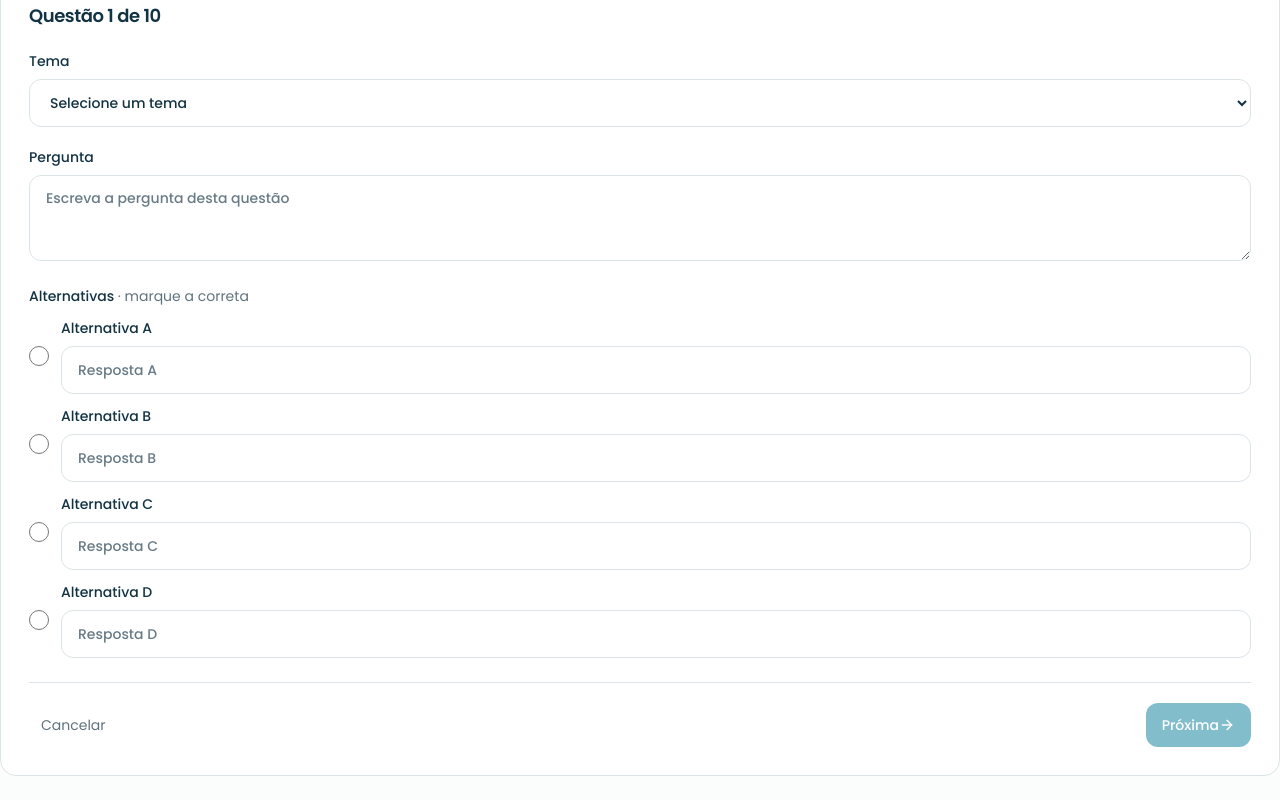
Test: cancelamento vazio sai direto; conteúdo preenchido exige confirmação e preserva edição
Later steps or results of the test are not shown.
(page scrolled)
Click the button "Cancelar" at (73, 725), box [29,703,118,747]
Type "Pergunta em edição" into the text box labelled "Pergunta" at (640, 218), box [29,175,1251,261]
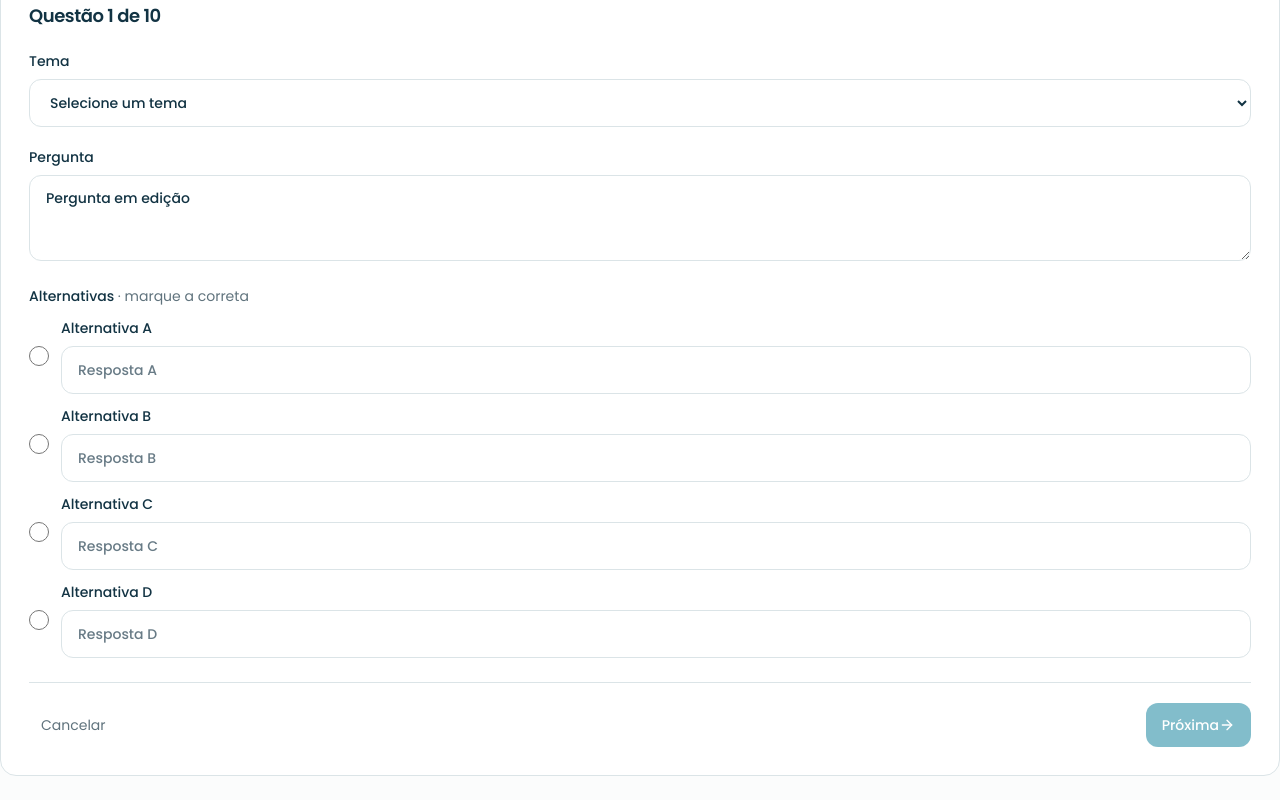
Click the button "Cancelar" at (73, 725), box [29,703,118,747]
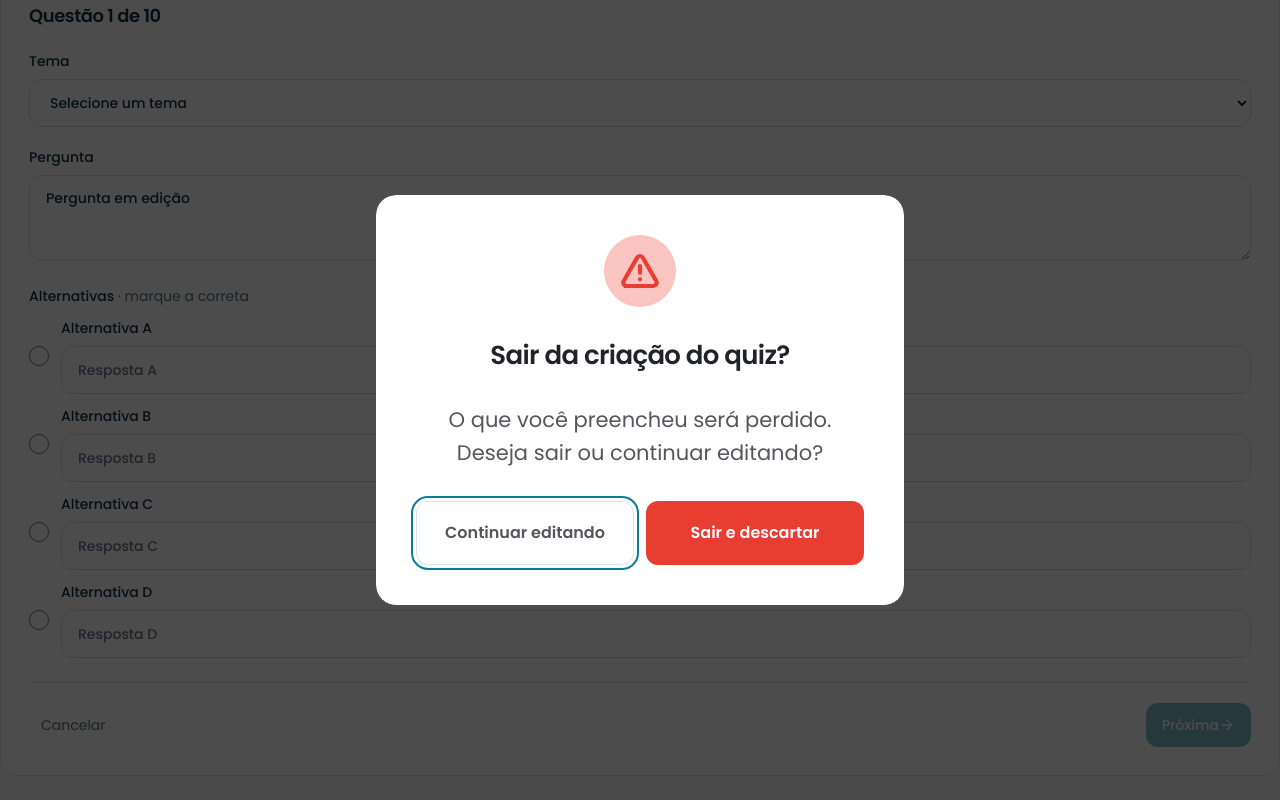
Now the dialog is shown, box [376,194,904,605]
Click the button "Continuar editando" at (525, 533), box [416,501,634,565]
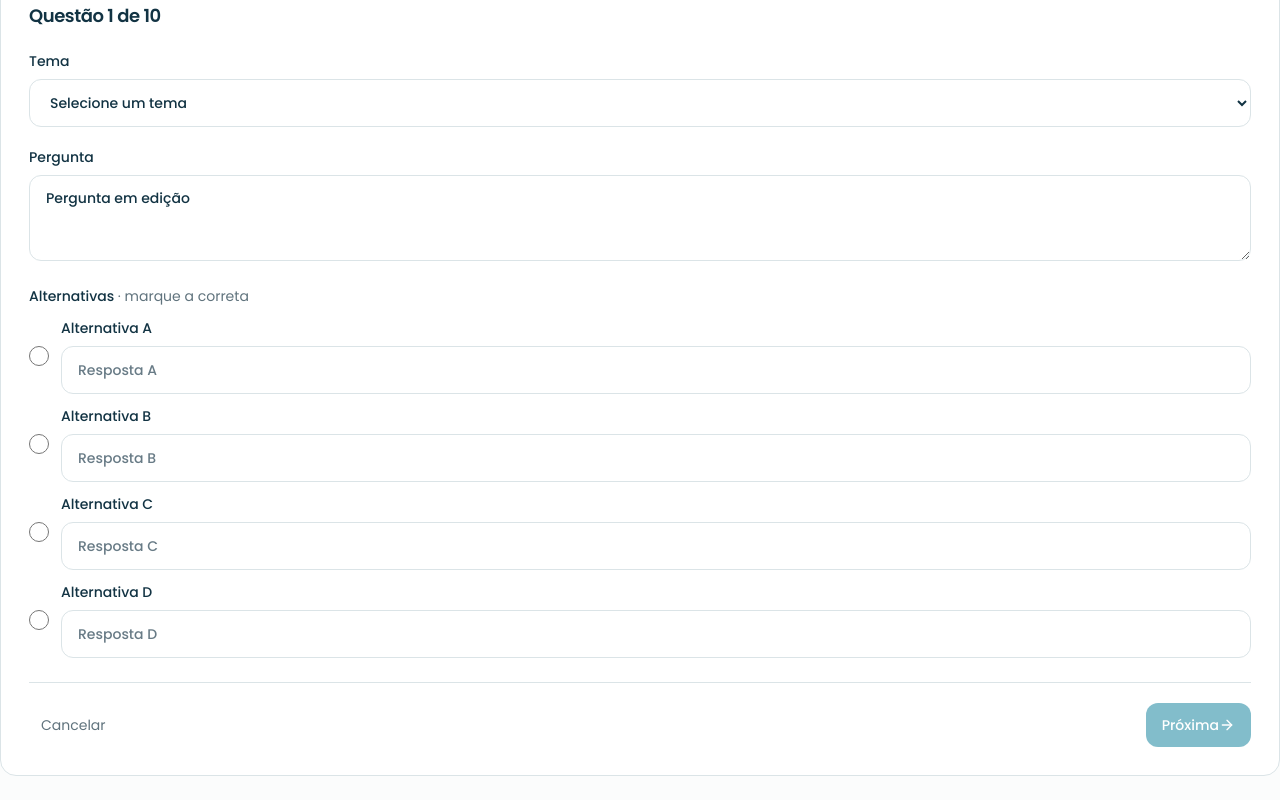
Now the dialog is gone
